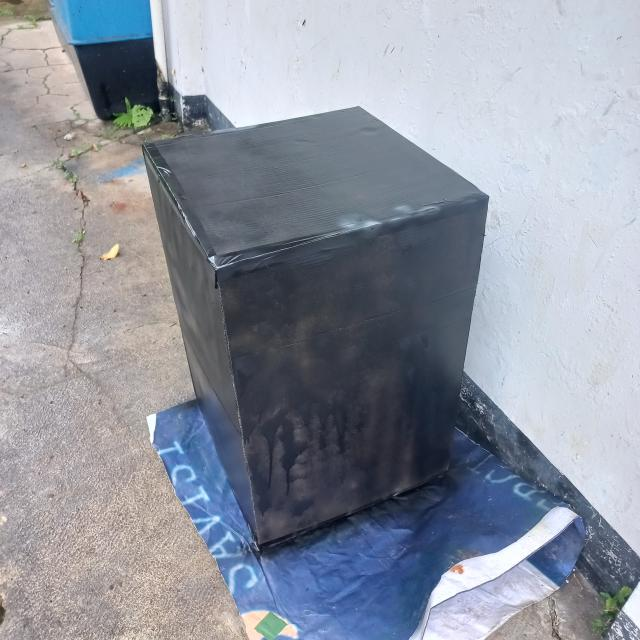obstacle: (142, 101, 495, 558)
